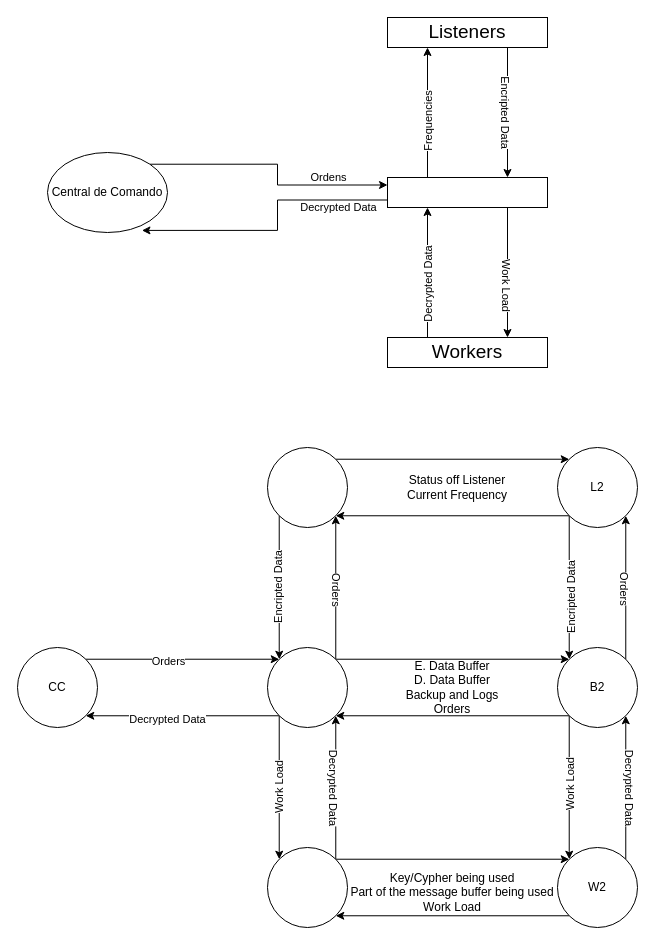
Some shapes in this 655 by 945 pixel diagram are drawn without their labels. Here are the shapes that lost their labels. From the top down, the box of each, then its label:
(386, 176, 548, 208): Buffers
(266, 446, 348, 528): L1
(266, 646, 348, 728): B1
(266, 846, 348, 928): W1
